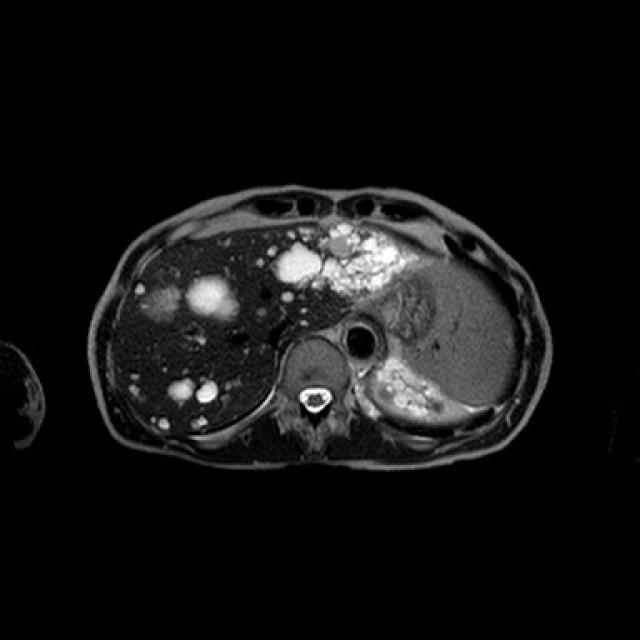sol: (373, 358, 469, 422)
